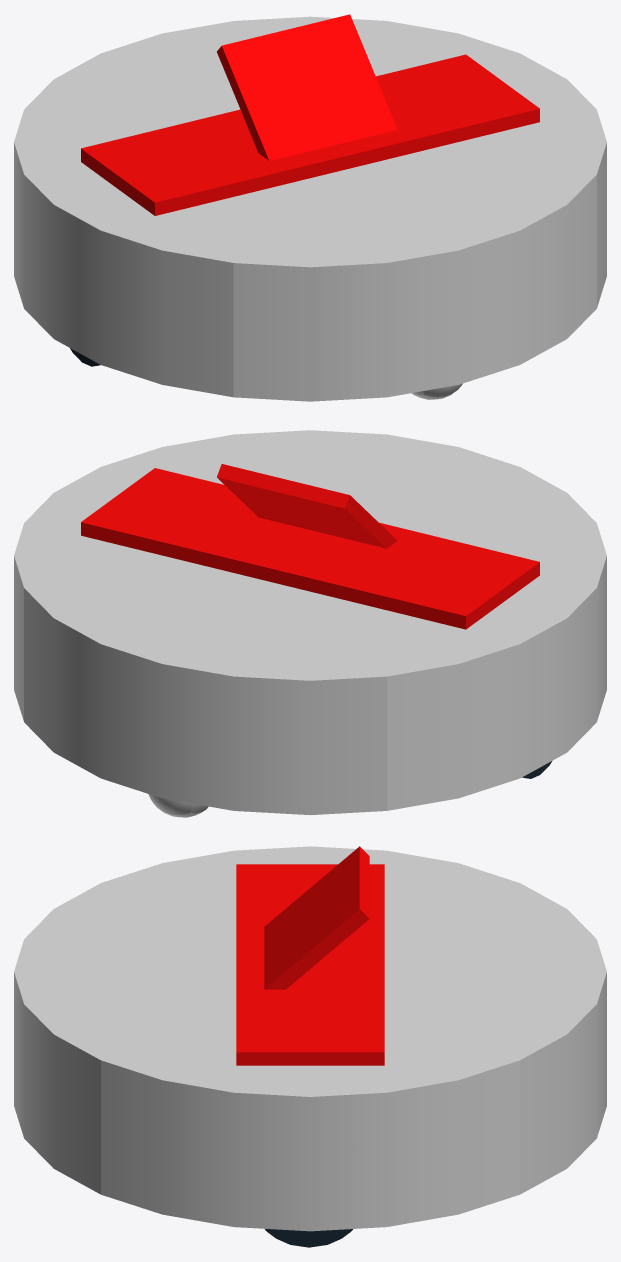
Rendered from roomba.dae.
3 renders of one model, top to bottom at view 1: azimuth 30°, elevation 25°; view 2: azimuth 150°, elevation 25°; view 3: azimuth 270°, elevation 25°, orthographic.
Visible parts, largest first — view 1: Part1; view 2: Part1; view 3: Part1.
Boxes of the visible parts, bbox=[...] form: Part1: bbox=[14, 14, 606, 401]; Part1: bbox=[14, 430, 606, 817]; Part1: bbox=[14, 846, 606, 1247].
Bounding box in the file's own units: 2 × 2 × 0.966.
